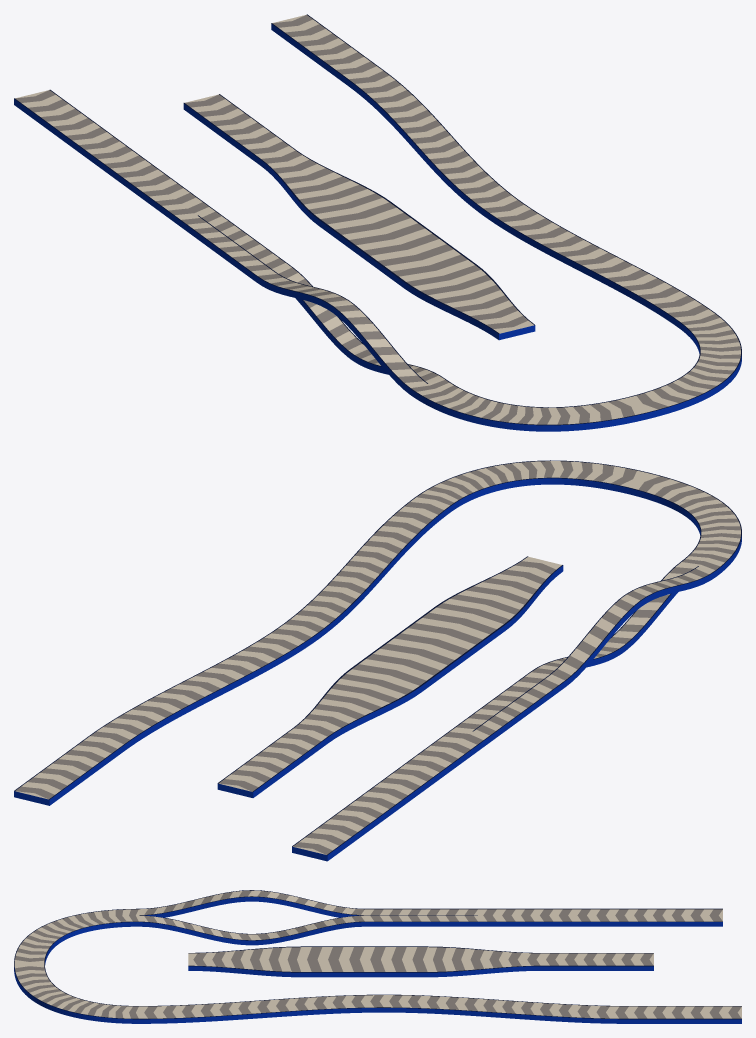
The model's file is New_Ways.FBX.
3 views of the same model, one above another, from view 1: azimuth 30°, elevation 25°; view 2: azimuth 150°, elevation 25°; view 3: azimuth 270°, elevation 25° (orthographic). The views are drawn at different scales.
Visible parts, largest first — view 1: Box026, Box001, Box004, Box034, Box028, Box015, Box033, Box030, Box029, Box025, Box022, Box009 (+4 smaller); view 2: Box001, Box004, Box026, Box034, Box015, Box028, Box030, Box033, Box029, Box025, Box021, Box009 (+4 smaller); view 3: Box001, Box026, Box004, Box034, Box015, Box028, Box033, Box030, Box029, Box025, Box024, Box023 (+4 smaller).
Part boxes in pixels (left/top/right/bottom): Box026: left=482, top=199, right=715, bottom=328; Box001: left=14, top=89, right=215, bottom=225; Box004: left=347, top=70, right=517, bottom=214; Box034: left=318, top=201, right=476, bottom=288; Box028: left=409, top=379, right=647, bottom=431; Box015: left=627, top=313, right=741, bottom=418; Box033: left=404, top=264, right=535, bottom=340; Box030: left=260, top=150, right=390, bottom=225; Box029: left=183, top=94, right=295, bottom=164; Box025: left=271, top=14, right=383, bottom=85; Box022: left=333, top=302, right=427, bottom=394; Box009: left=180, top=215, right=274, bottom=282; Box001: left=292, top=727, right=490, bottom=861; Box004: left=90, top=624, right=318, bottom=750; Box026: left=284, top=497, right=451, bottom=638; Box034: left=351, top=607, right=505, bottom=692; Box015: left=416, top=460, right=648, bottom=511; Box028: left=628, top=472, right=741, bottom=576; Box030: left=293, top=668, right=421, bottom=742; Box033: left=435, top=556, right=563, bottom=630; Box029: left=217, top=728, right=328, bottom=797; Box025: left=14, top=735, right=124, bottom=805; Box021: left=548, top=596, right=641, bottom=686; Box009: left=473, top=676, right=565, bottom=741; Box001: left=478, top=908, right=722, bottom=926; Box026: left=139, top=994, right=383, bottom=1023; Box004: left=384, top=994, right=628, bottom=1023; Box034: left=301, top=946, right=427, bottom=977; Box015: left=14, top=964, right=138, bottom=1023; Box028: left=14, top=908, right=138, bottom=964; Box033: left=188, top=946, right=301, bottom=977; Box030: left=427, top=946, right=540, bottom=977; Box029: left=540, top=953, right=653, bottom=970; Box025: left=629, top=1006, right=741, bottom=1023; Box024: left=252, top=915, right=364, bottom=945; Box023: left=139, top=915, right=251, bottom=945.
Size of the model in its own units: 1968 by 352 by 5490.
